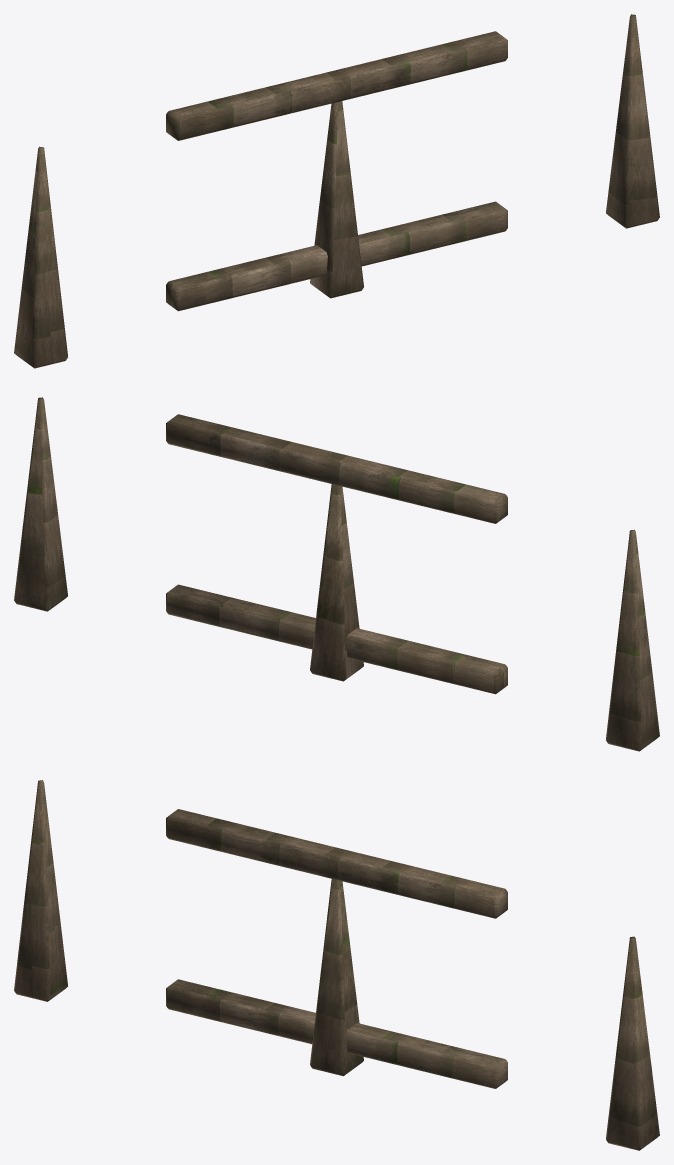
File: wooden_fence.fbx
The picture shows the model from 3 angles, top to bottom: view 1: azimuth 30°, elevation 25°; view 2: azimuth 150°, elevation 25°; view 3: azimuth 330°, elevation 25°; orthographic projection.
Visible parts, largest first — view 1: wooden_fence; view 2: wooden_fence; view 3: wooden_fence.
Boxes of the visible parts, x1,y1,x2,y2 form: wooden_fence: (14, 14, 659, 368); wooden_fence: (14, 397, 659, 751); wooden_fence: (14, 780, 659, 1150).
Bounding box in the file's own units: 0.8494 × 0.2791 × 0.0494.
1 material, 1 textured.
